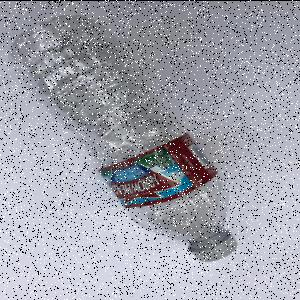Plastic-bottle: (7, 14, 240, 264)
